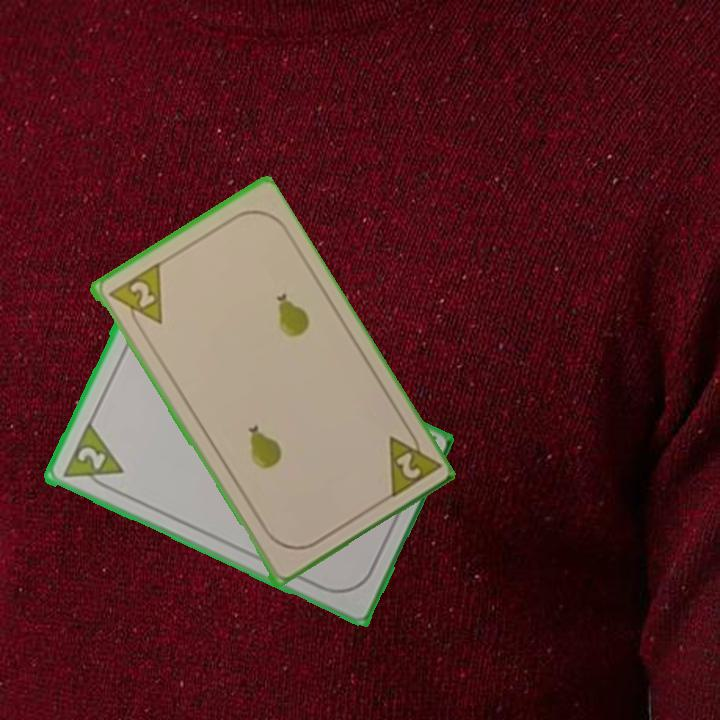2p: (104, 260, 166, 336), (383, 421, 441, 502), (73, 443, 108, 473)
